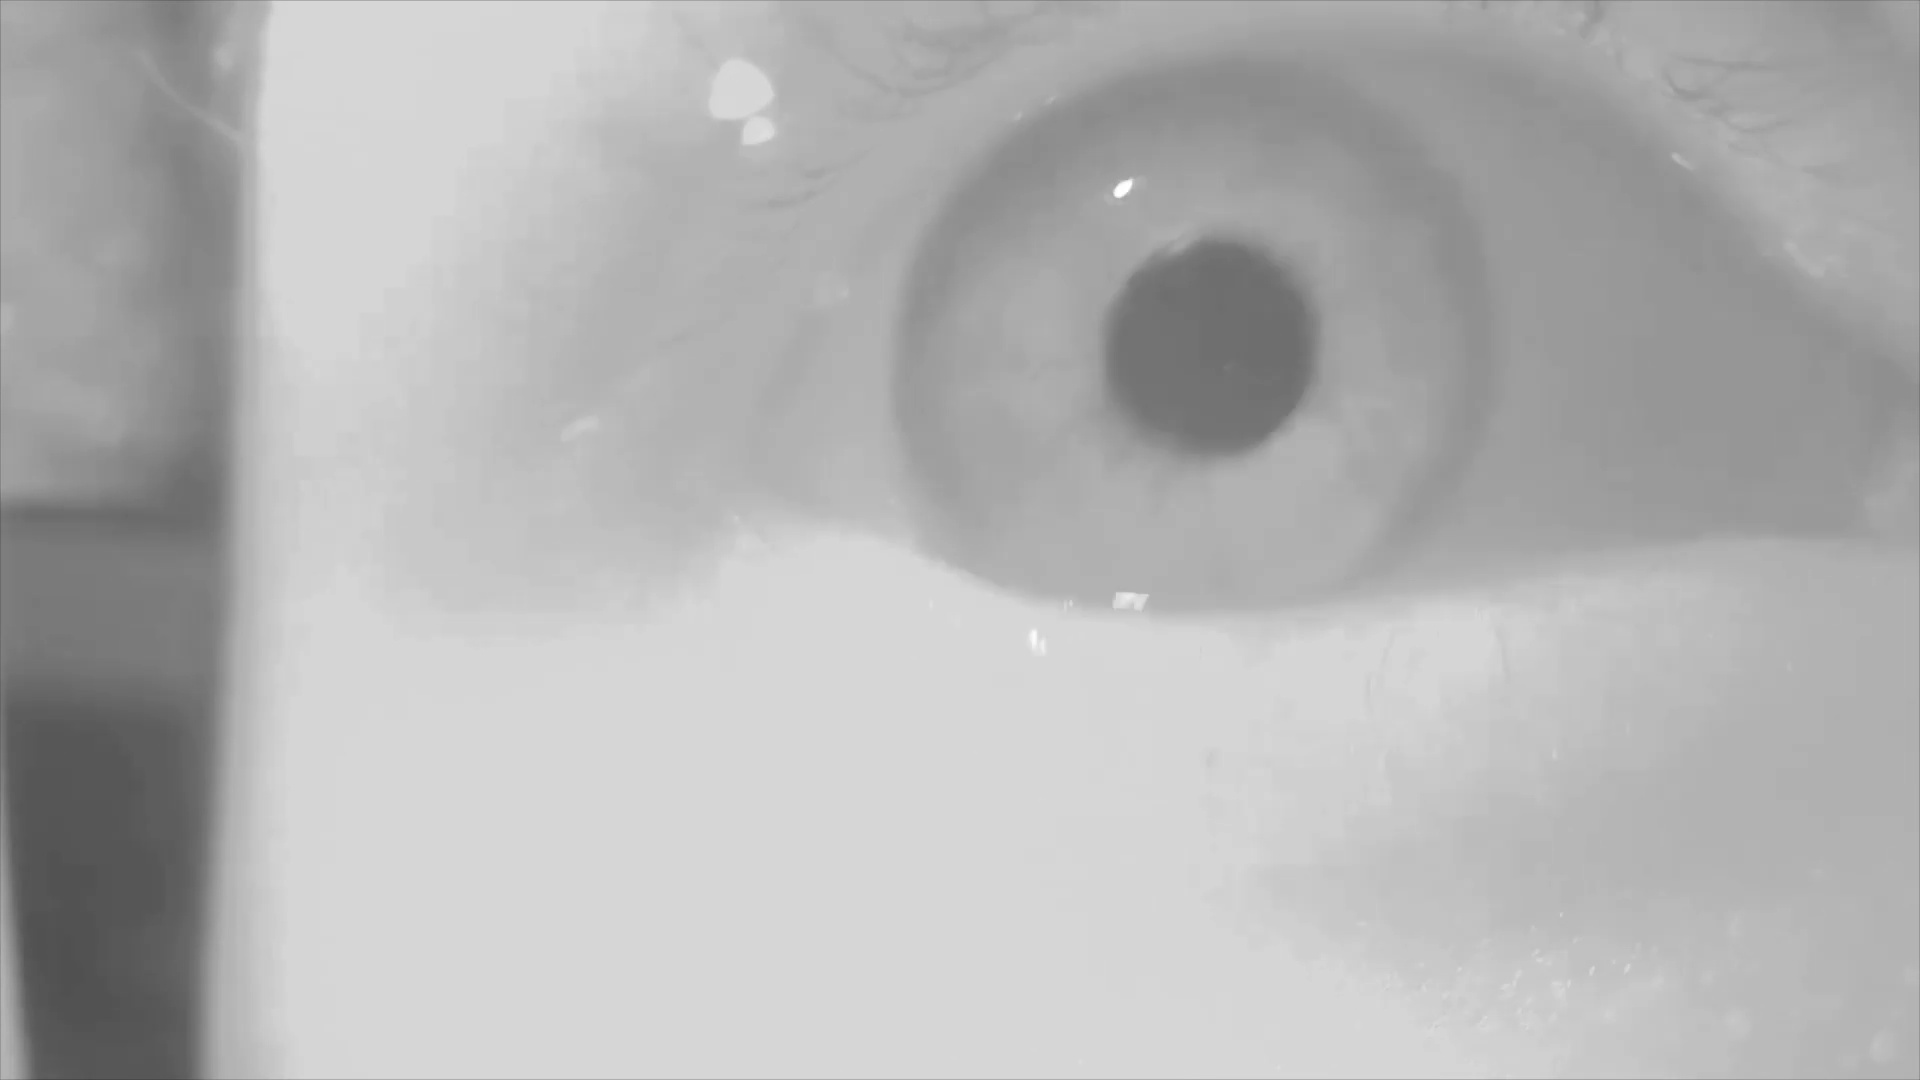pupil: (1101, 241, 1321, 451)
